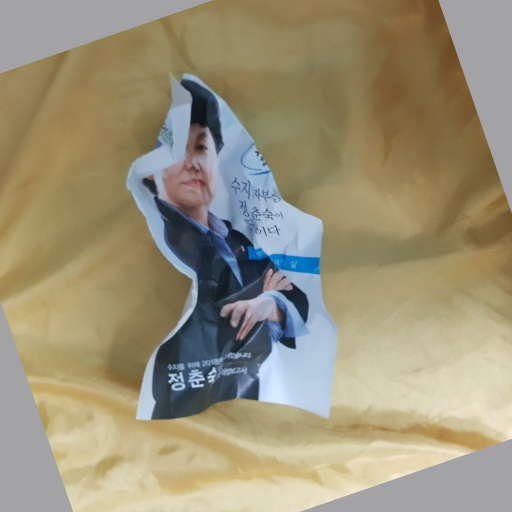Paper_3: (99, 67, 346, 422)
